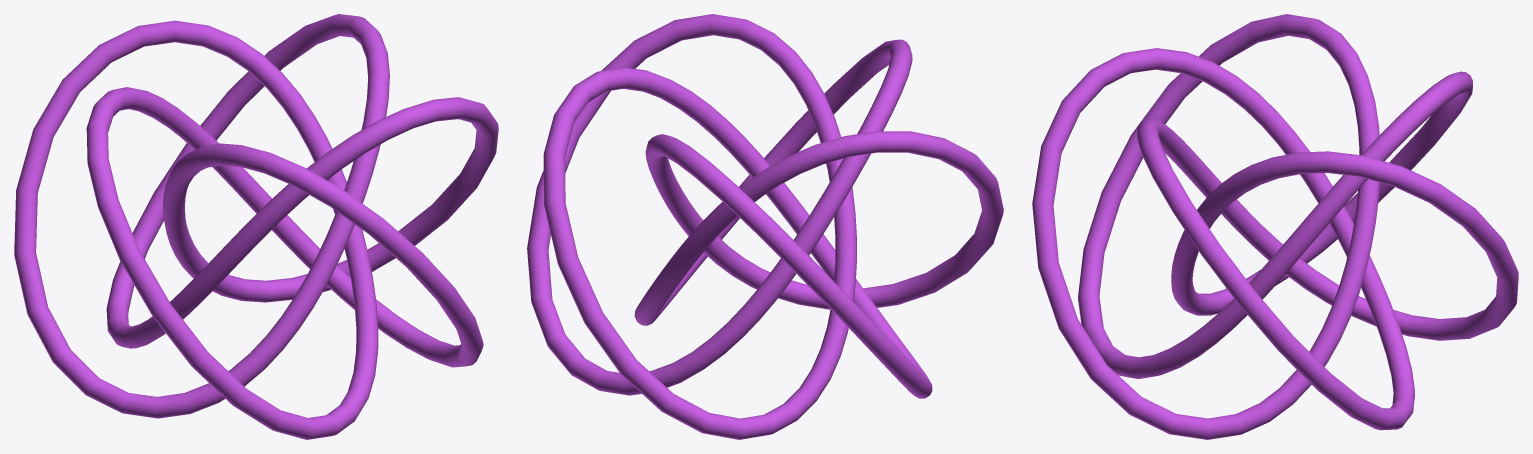
File: knot.DAE
3 views of the same model, side by side, from view 1: azimuth 30°, elevation 25°; view 2: azimuth 150°, elevation 25°; view 3: azimuth 270°, elevation 25° (orthographic).
Visible parts, largest first — view 1: Torus_Knot001; view 2: Torus_Knot001; view 3: Torus_Knot001.
Boxes of the visible parts, x1=… form: Torus_Knot001: x1=14, y1=14, x2=498, y2=439; Torus_Knot001: x1=527, y1=14, x2=1003, y2=439; Torus_Knot001: x1=1032, y1=14, x2=1518, y2=439.
Size of the model in its own units: 140 by 143 by 92.59.
